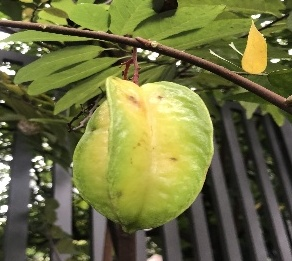Khe: (68, 76, 216, 234)
